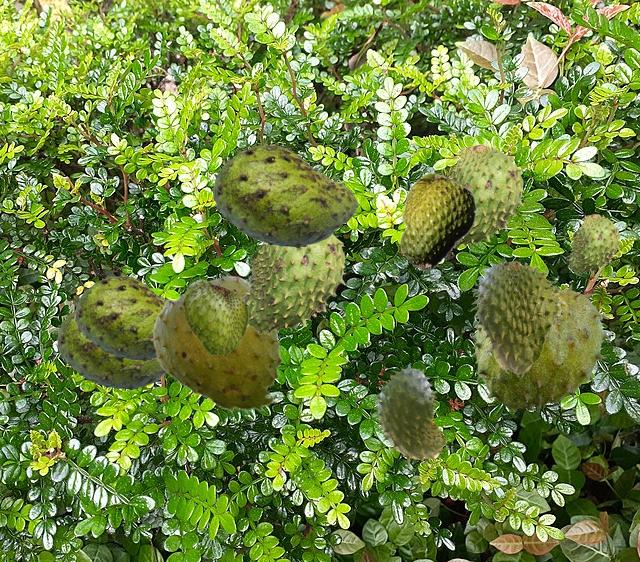guyabano: (150, 275, 282, 413), (470, 283, 609, 410), (212, 144, 357, 247), (470, 260, 564, 376), (242, 234, 345, 334), (56, 310, 165, 389), (447, 144, 523, 248), (74, 275, 165, 360), (398, 172, 476, 271), (372, 363, 446, 467), (183, 278, 247, 354), (566, 214, 619, 273)
